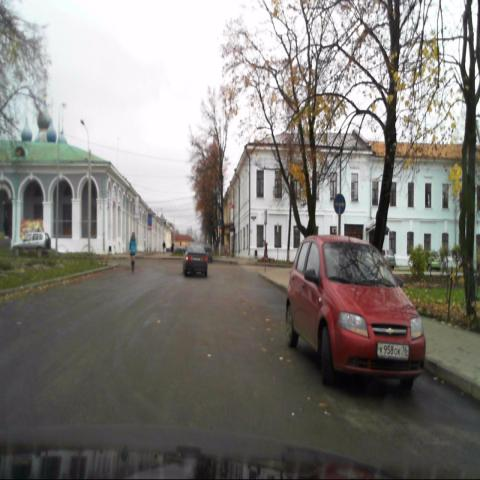4_1_6: (334, 192, 346, 217)
